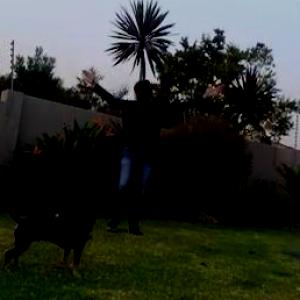takeoff: (85, 61, 234, 232)
